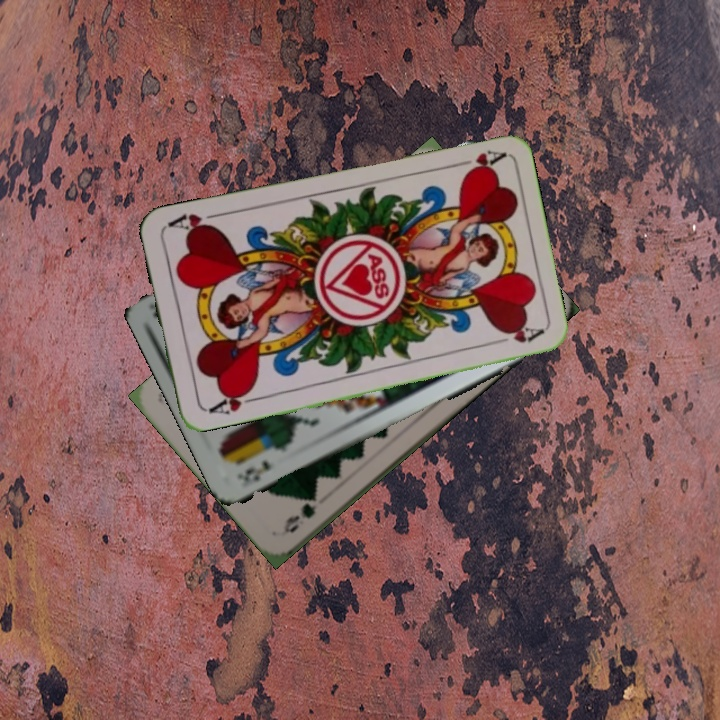EK: (233, 455, 274, 488)
G9: (279, 489, 320, 536)
HA: (202, 384, 260, 418), (447, 146, 506, 178)
